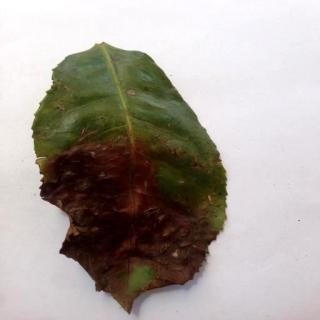Algal Leaf: (30, 41, 229, 314)
